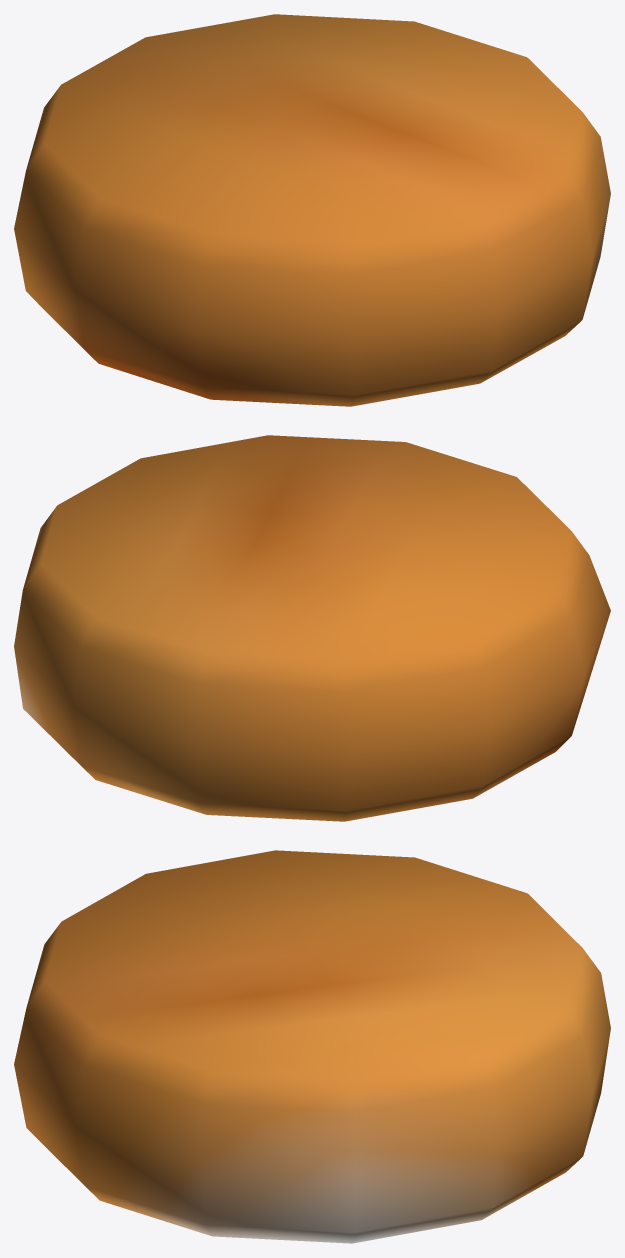
File: Cheese_1.fbx
The picture shows the model from 3 angles, top to bottom: view 1: azimuth 30°, elevation 25°; view 2: azimuth 150°, elevation 25°; view 3: azimuth 270°, elevation 25°; orthographic projection.
Parts seen in each view (by area): view 1: Cheese_1; view 2: Cheese_1; view 3: Cheese_1.
Boxes of the visible parts, x1,y1,x2,y2 form: Cheese_1: (14,14,610,406); Cheese_1: (14,435,610,821); Cheese_1: (14,850,610,1243).
Bounding box in the file's own units: 0.5441 × 0.1668 × 0.5438.
